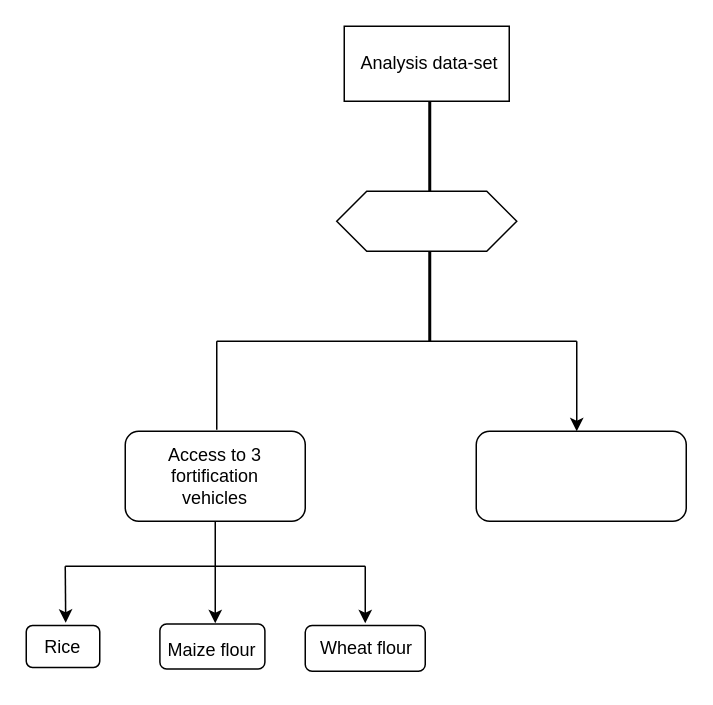
The diagram is 713 pixels wide and 705 high, and some of its shapes have lost their labels. Each missing label, with the box of its shape:
Apparently inadequate MN intake from diet: (475, 430, 686, 521)
ML modelling: (335, 190, 517, 251)
